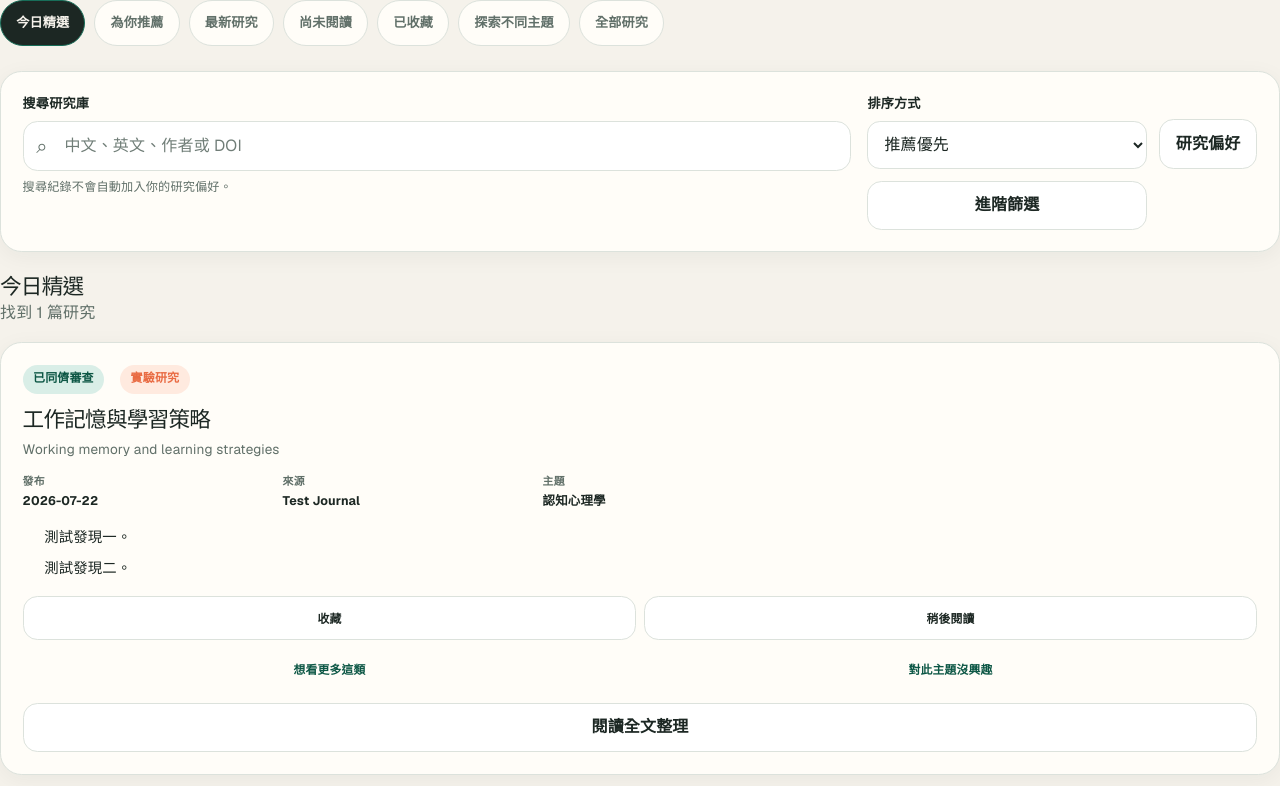
ResearchList › saves editable preferences in IndexedDB and reranks immediately
This screenshot has width=1280, height=786.
Click the button "研究偏好" at (1208, 144), box [1159,120,1257,169]
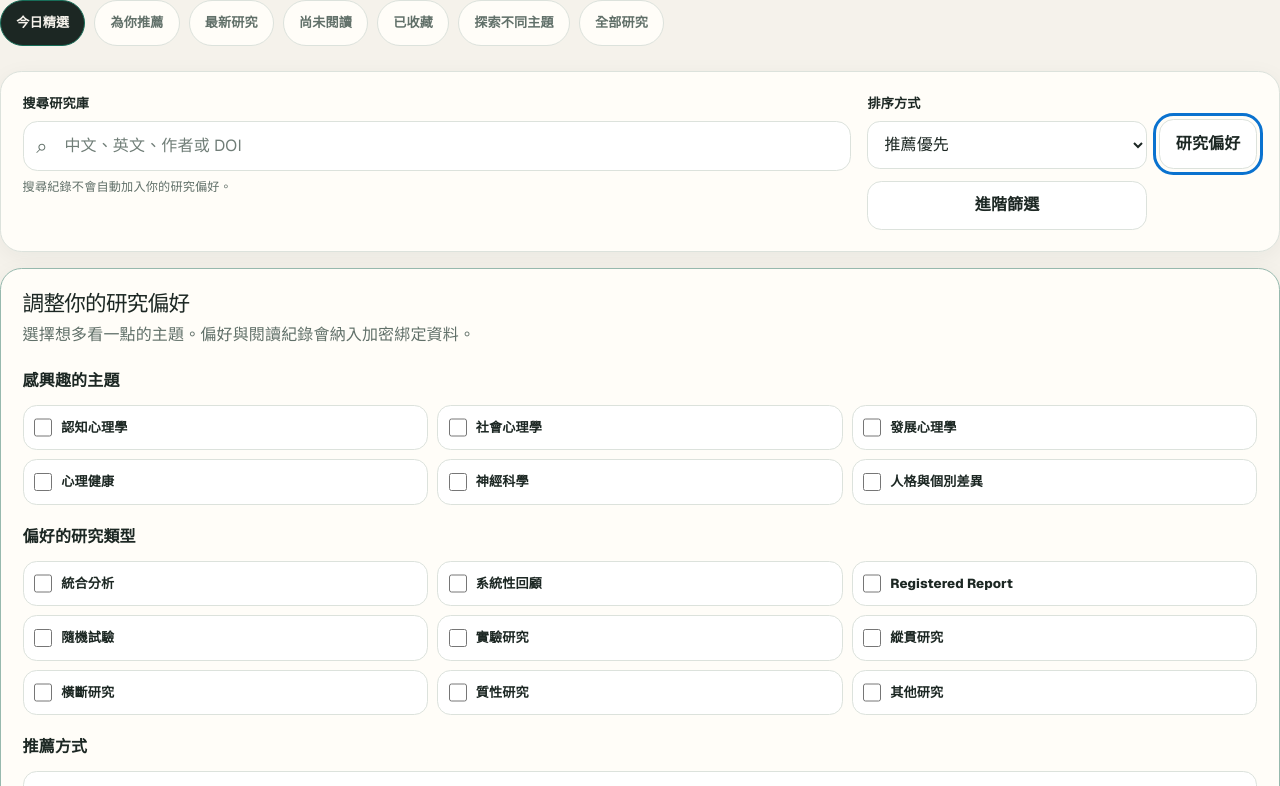
Click the checkbox labelled "神經科學" at (458, 482), box [448,473,467,491]
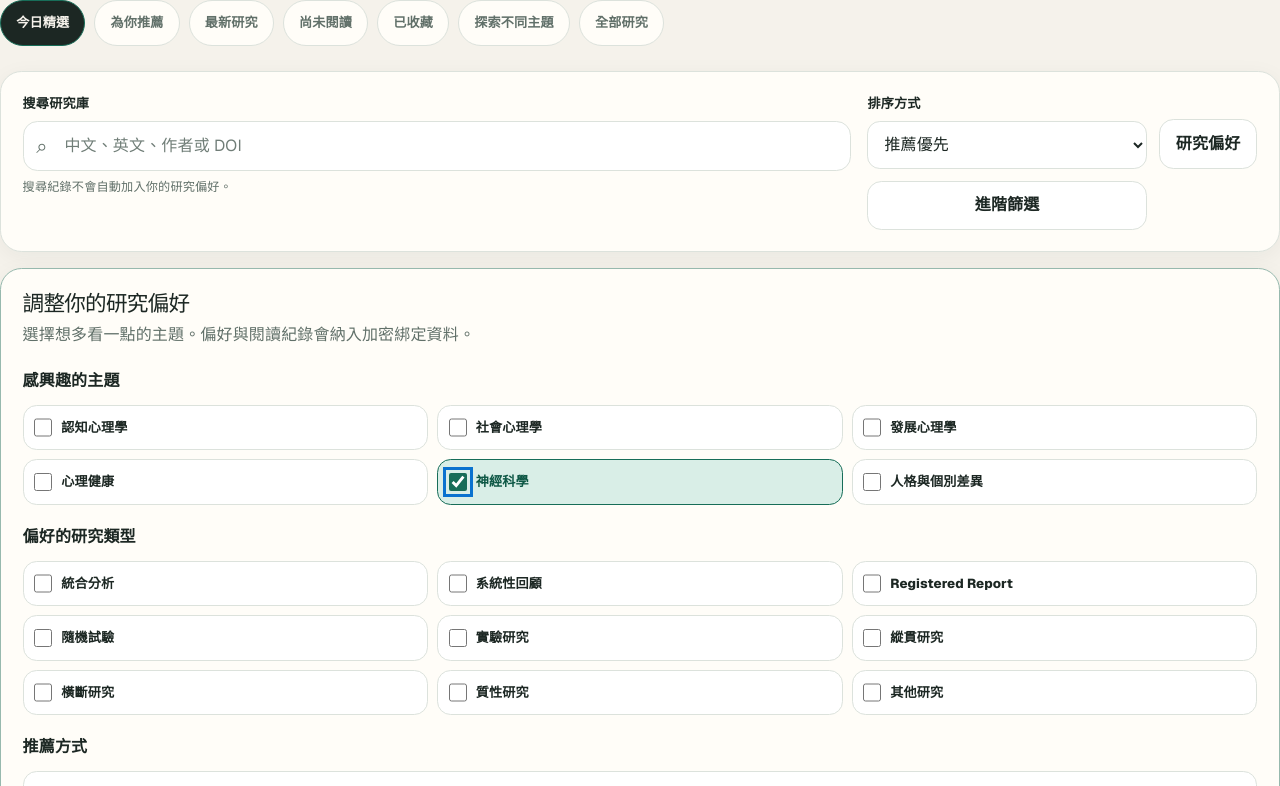
Click the checkbox labelled "系統性回顧" at (458, 584), box [448,574,467,593]
(page scrolled)
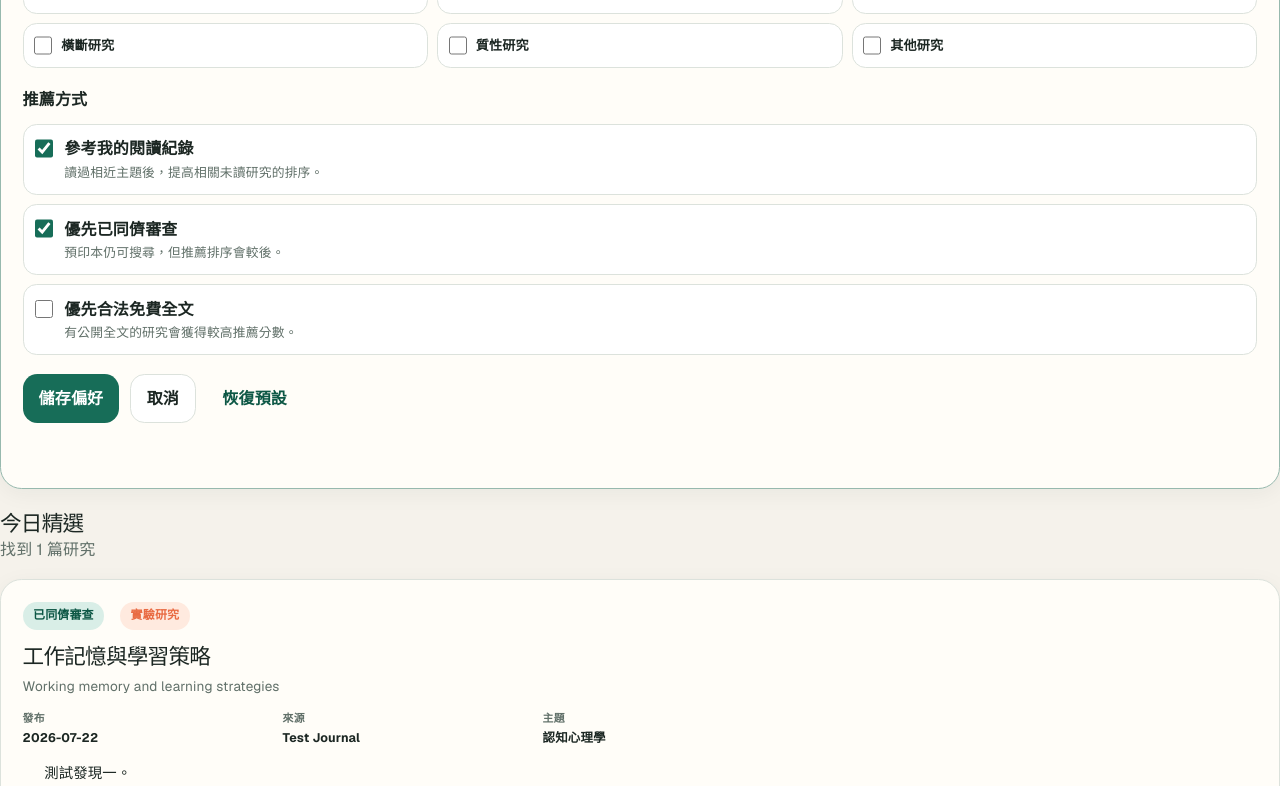
Click the button "儲存偏好" at (71, 399), box [23,374,119,424]
(page scrolled)
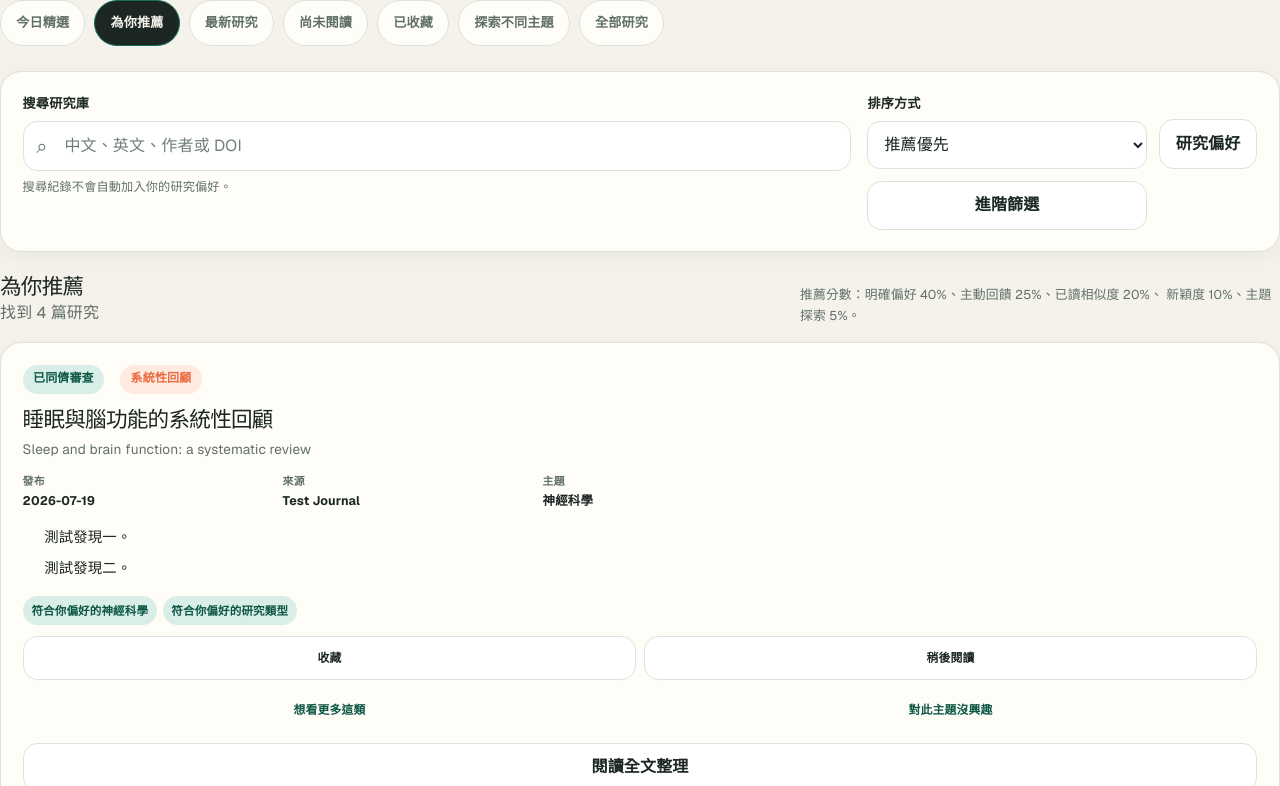
Expected: the text "符合你偏好的神經科學" is shown, [23,596,157,625]
